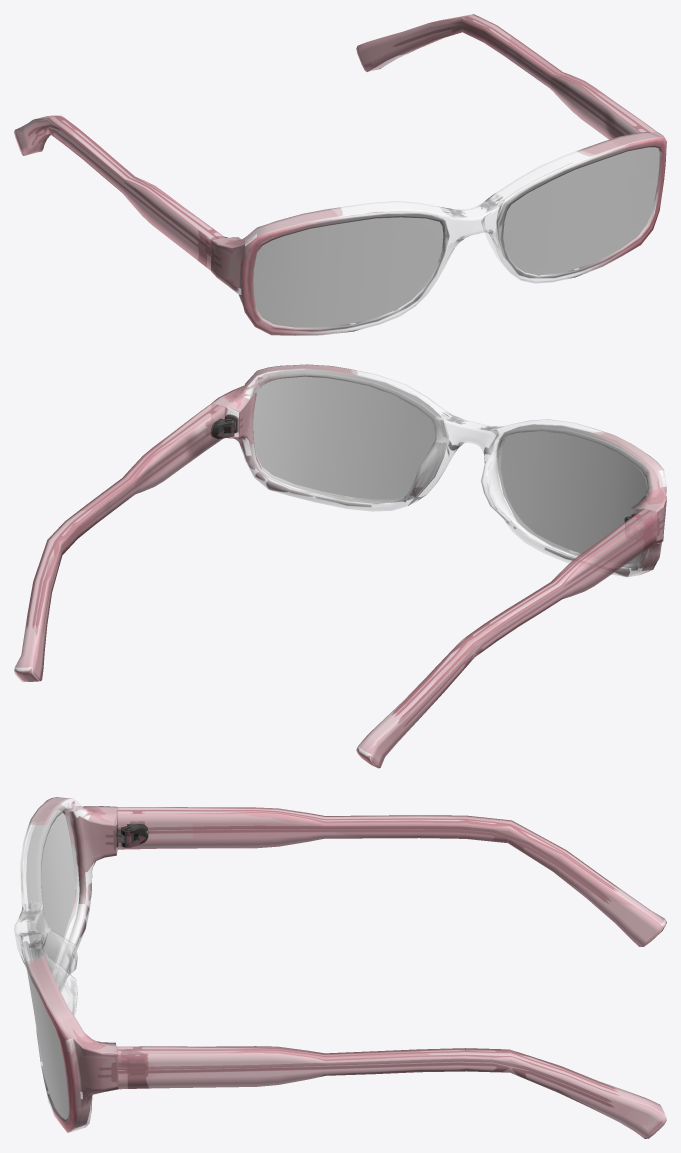
File: SKU25262087.gltf
3 views of the same model, one above another, from view 1: azimuth 30°, elevation 25°; view 2: azimuth 150°, elevation 25°; view 3: azimuth 270°, elevation 25° (orthographic). The views are drawn at different scales.
Parts seen in each view (by area): view 1: Lenses, Frame, LBranch, RBranch; view 2: Lenses, Frame, RBranch, LBranch; view 3: RBranch, LBranch, Frame, Lenses.
Boxes of the visible parts, x1=… form: Lenses: x1=253, y1=145, x2=661, y2=327; Frame: x1=211, y1=131, x2=666, y2=335; LBranch: x1=356, y1=14, x2=656, y2=139; RBranch: x1=14, y1=115, x2=227, y2=270; Lenses: x1=249, y1=369, x2=661, y2=568; Frame: x1=212, y1=364, x2=666, y2=577; RBranch: x1=356, y1=508, x2=656, y2=768; LBranch: x1=14, y1=403, x2=234, y2=681; RBranch: x1=116, y1=807, x2=666, y2=946; LBranch: x1=116, y1=1046, x2=666, y2=1138; Frame: x1=14, y1=797, x2=133, y2=1132; Lenses: x1=23, y1=804, x2=77, y2=1119.
Size of the model in its own units: 134 by 36.72 by 149.
4 materials, 4 textured.
